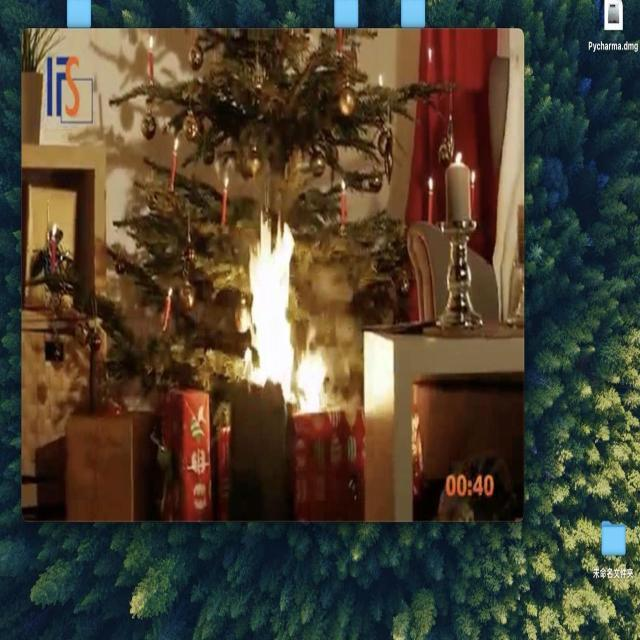smoke: (240, 218, 330, 426)
